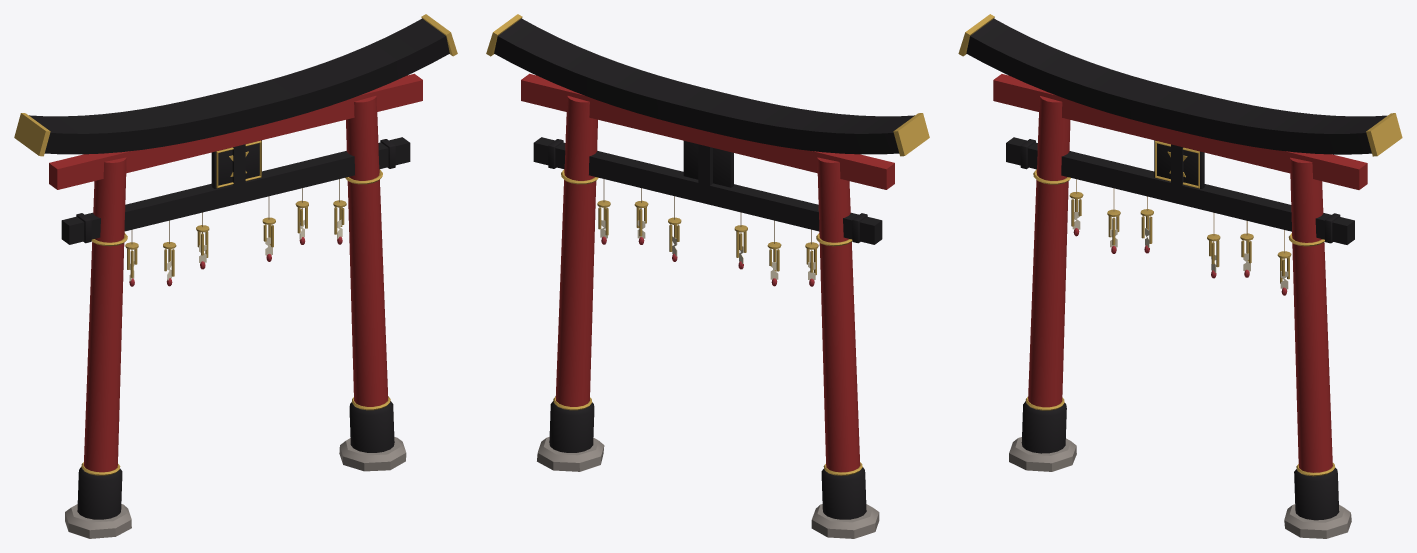
File: deco_spirit_gate.fbx
3 views of the same model, side by side, from view 1: azimuth 30°, elevation 25°; view 2: azimuth 150°, elevation 25°; view 3: azimuth 330°, elevation 25° (orthographic).
Visible parts, largest first — view 1: SpiritGate_Beams, SpiritGate_Posts, SpiritGate_Chimes; view 2: SpiritGate_Beams, SpiritGate_Posts, SpiritGate_Chimes; view 3: SpiritGate_Beams, SpiritGate_Posts, SpiritGate_Chimes.
Boxes of the visible parts, <box> form: SpiritGate_Beams: <box>14,14,457,244</box>; SpiritGate_Posts: <box>65,96,406,538</box>; SpiritGate_Chimes: <box>125,179,346,286</box>; SpiritGate_Beams: <box>486,14,929,244</box>; SpiritGate_Posts: <box>537,96,879,538</box>; SpiritGate_Chimes: <box>597,179,818,286</box>; SpiritGate_Beams: <box>958,14,1402,244</box>; SpiritGate_Posts: <box>1009,96,1351,538</box>; SpiritGate_Chimes: <box>1069,179,1291,295</box>.
Size of the model in its own units: 504 by 481 by 72.96.
